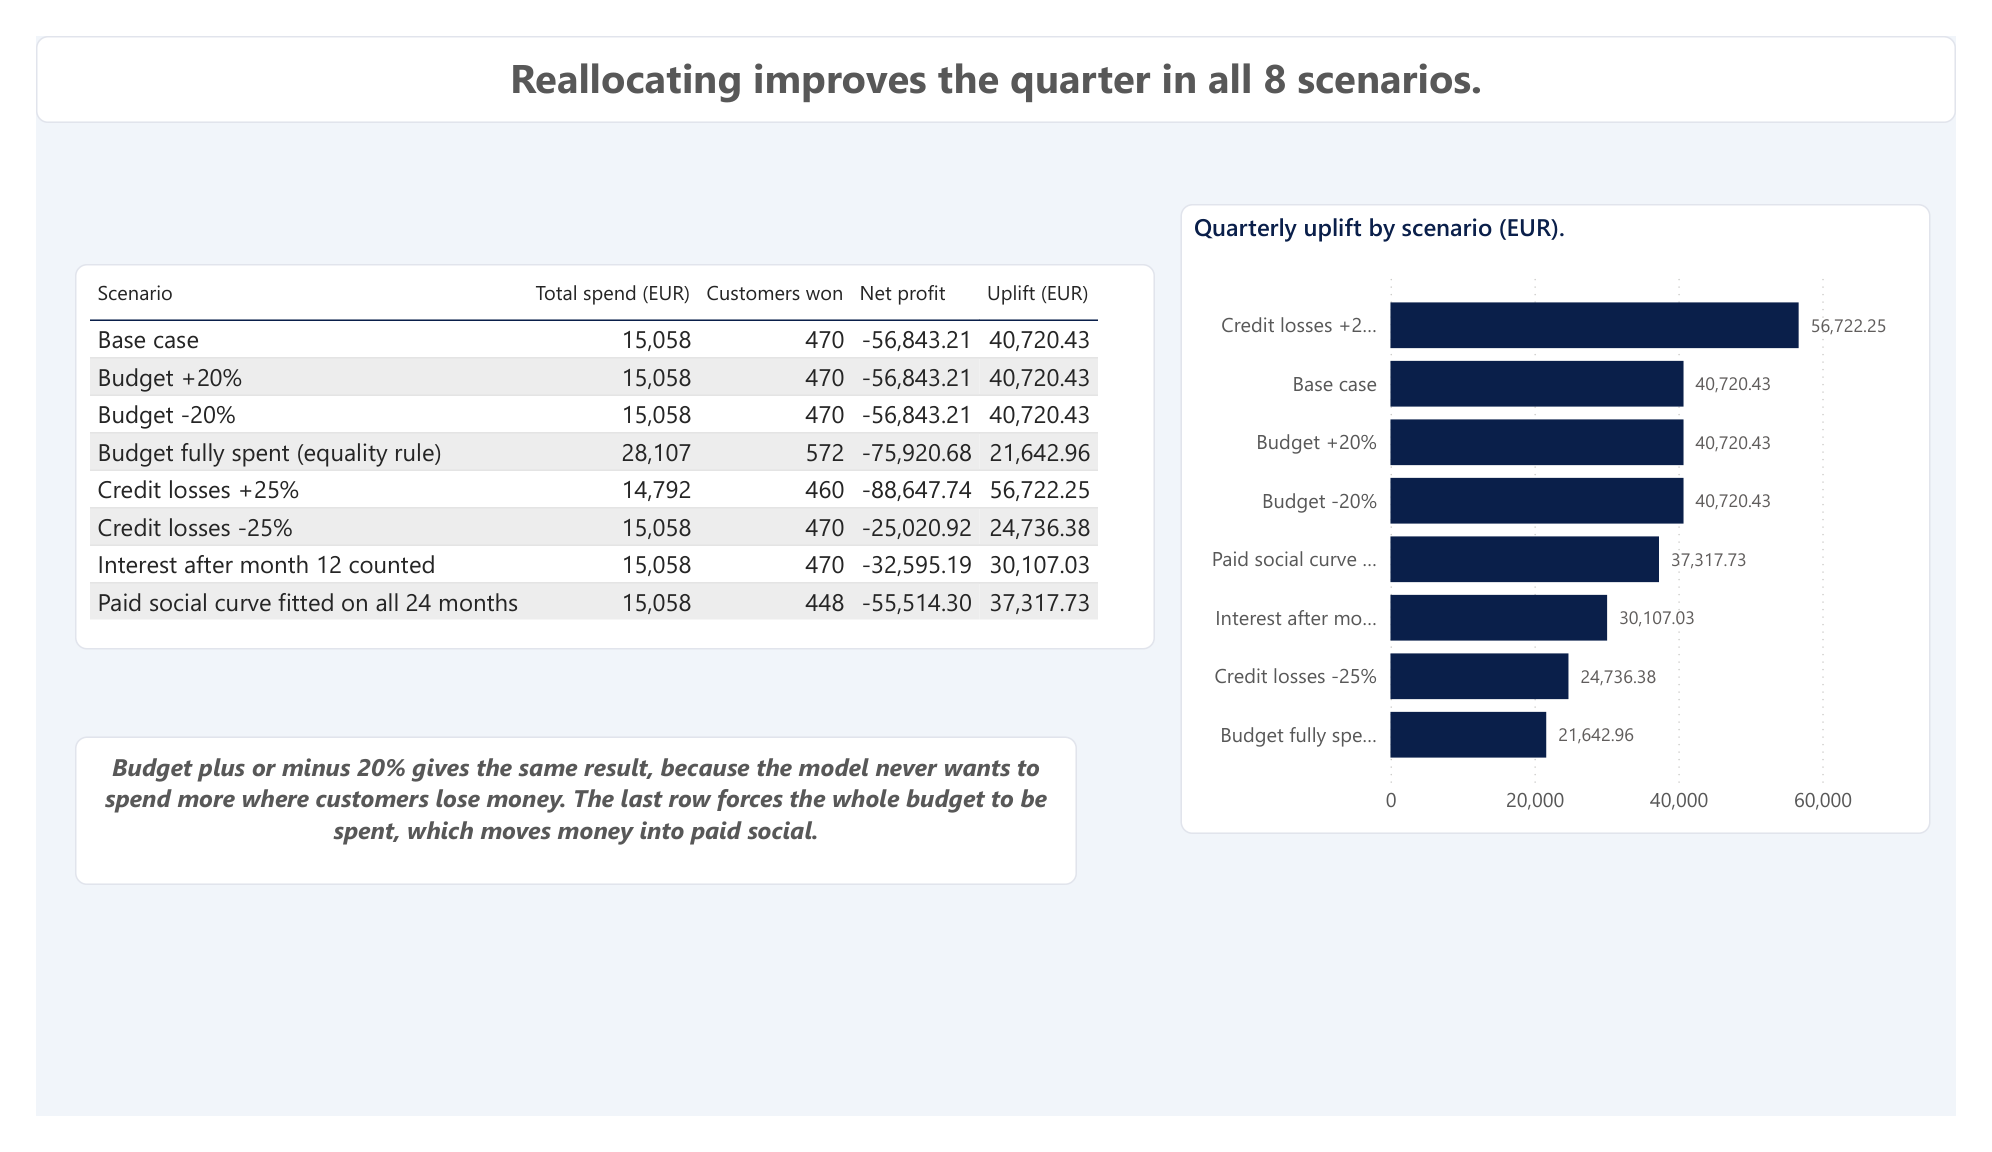

What the dashboard file says about the page in this screenshot:
{"tool":"powerbi","page":{"name":"Budget scenarios","canvas":[1280,720],"ordinal":4},"visuals":[{"type":"textbox","box":[0,0,1279.8,57.7],"z":0},{"type":"tableEx","fields":{"Values":["tblScenarios.Scenario","Sum(tblScenarios.Total spend (EUR))","Sum(tblScenarios.Customers won)","Sum(tblScenarios.Net profit at recommended spend (EUR))","Sum(tblScenarios.Uplift (EUR))"]},"box":[25.8,152.1,720.2,256.4],"z":1},{"type":"clusteredBarChart","title":"Quarterly uplift by scenario (EUR).","fields":{"Category":["tblScenarios.Scenario"],"Y":["Sum(tblScenarios.Uplift (EUR))"]},"box":[763.2,111.7,500,420],"z":2},{"type":"textbox","box":[25.8,467.5,668.7,98.2],"z":3}]}

Visuals, with their boxes in screenshot pixels (x1, y1, x2, y2), scaled from the page's 1280x720 canvas onto the 1992x1152 screenshot:
textbox: {"x1": 0, "y1": 0, "x2": 1991, "y2": 92}
tableEx - tblScenarios.Scenario x Sum(tblScenarios.Total spend (EUR)): {"x1": 40, "y1": 243, "x2": 1161, "y2": 654}
"Quarterly uplift by scenario (EUR)." clusteredBarChart: {"x1": 1188, "y1": 179, "x2": 1966, "y2": 851}
textbox: {"x1": 40, "y1": 748, "x2": 1081, "y2": 905}
